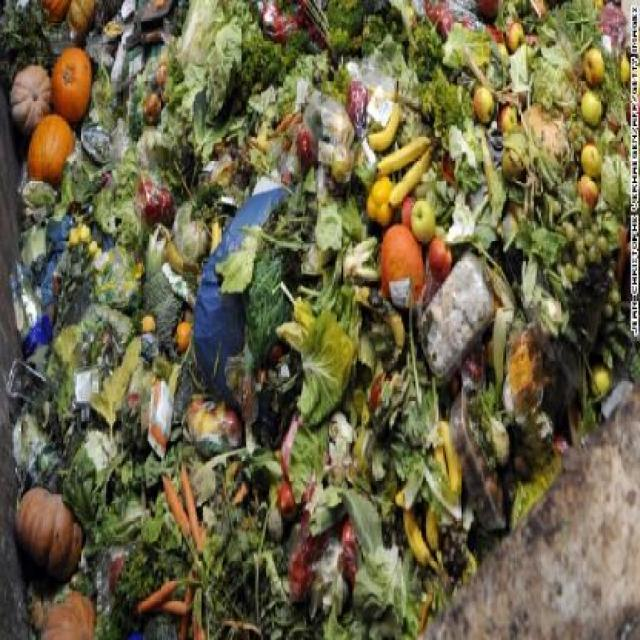garbage: (33, 19, 456, 565), (446, 6, 619, 418)
